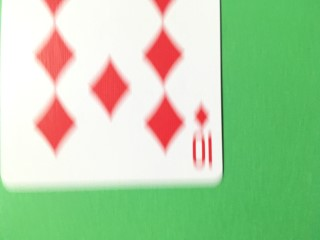TenOfDiamonds: (1, 1, 224, 191)
